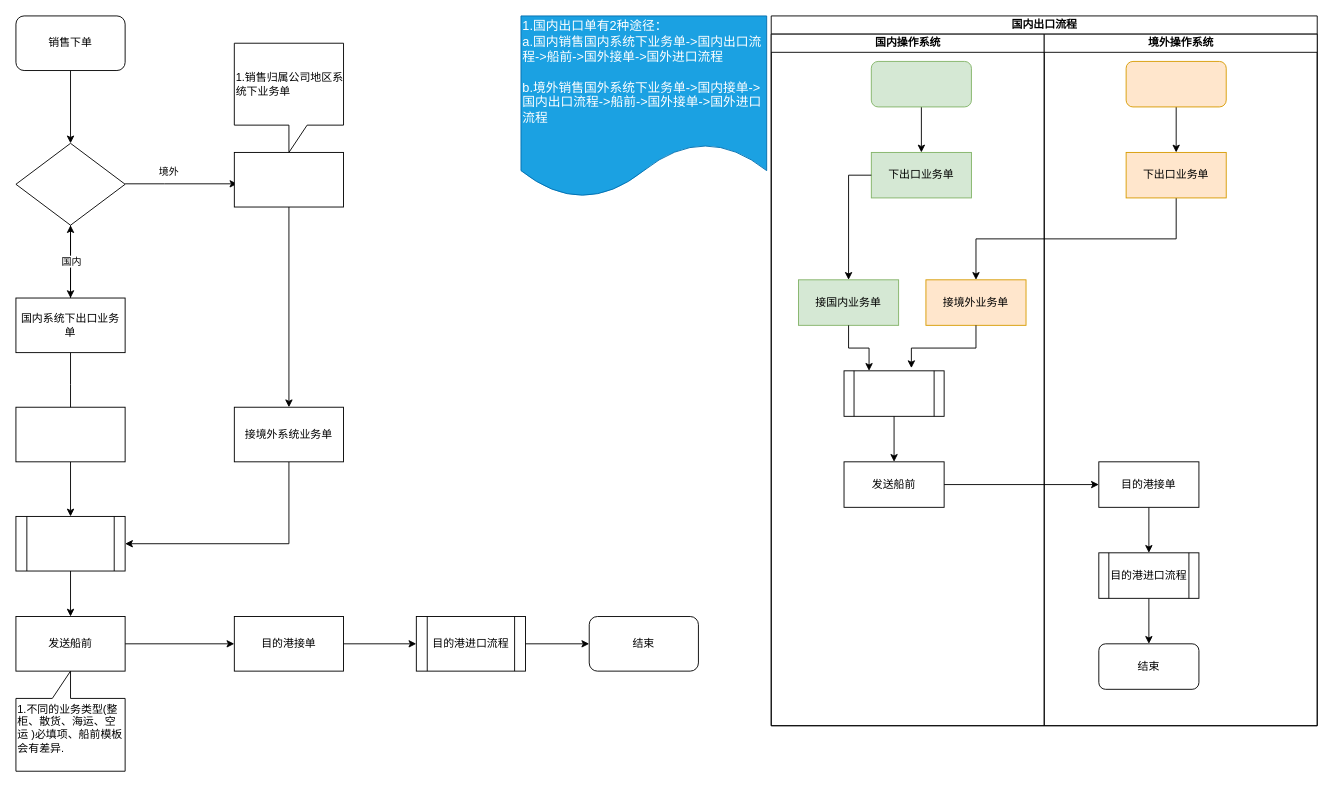
Some shapes in this 1333 by 787 pixel diagram are drawn without their labels. Each missing label, with the centre of its shape:
"1.境外销售" goes at pixel 1175 84.
"2.国内销售" goes at pixel 920 84.
"出口流程 (订舱、取货、报关等)" goes at pixel 893 393.
"国外系统下出口业务单" goes at pixel 288 179.
"接国内系统业务单" goes at pixel 70 434.
"起运港(境外)出口流程" goes at pixel 70 543.
"销售归属地区" goes at pixel 70 183.
